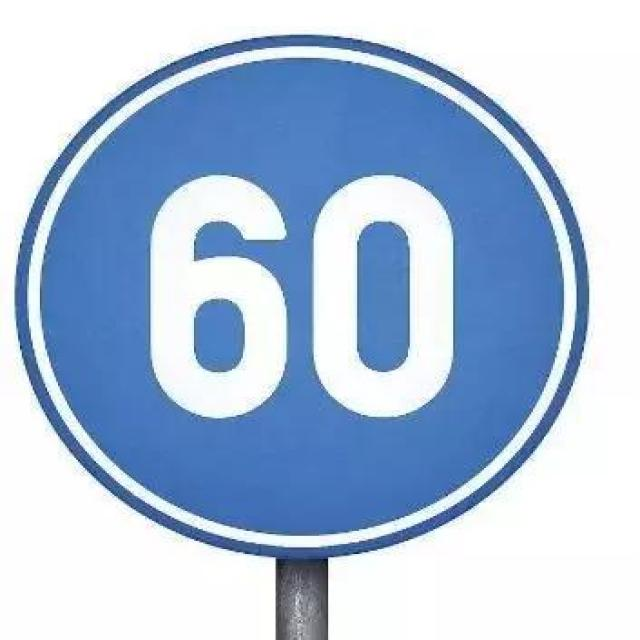speed limit 60: (9, 32, 592, 562)
